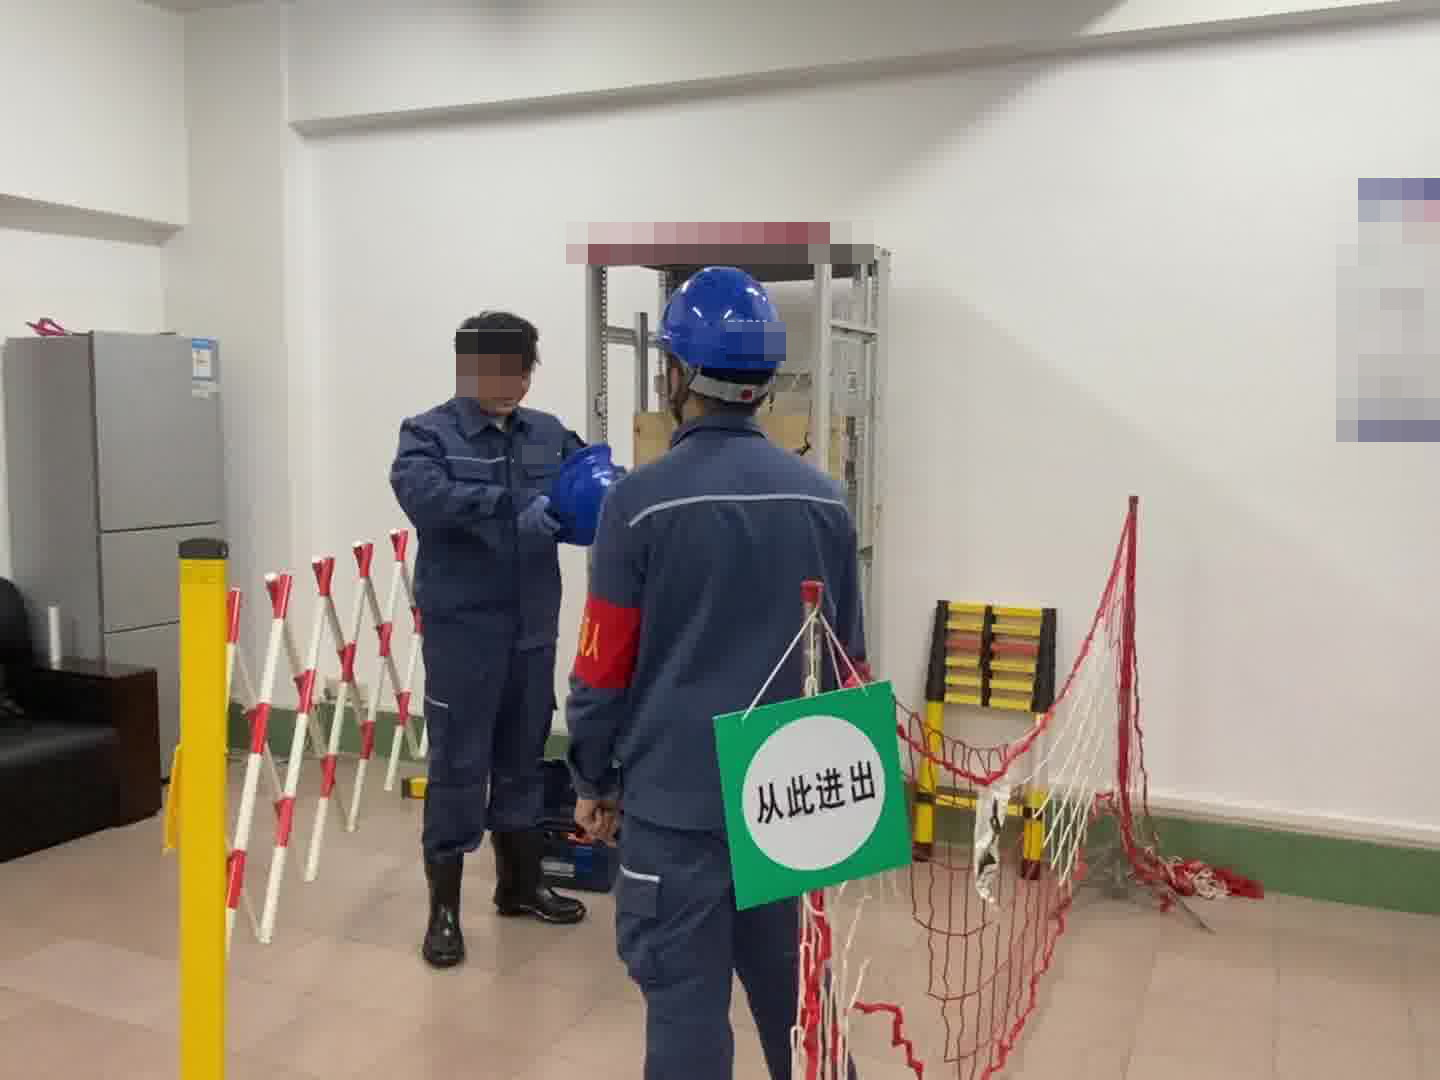badge: (574, 594, 643, 692)
downsuit: (614, 835, 848, 1080), (419, 643, 552, 856)
glove: (494, 480, 560, 536)
halt: (654, 264, 787, 413)
hand: (563, 789, 614, 848)
inear: (662, 357, 698, 400)
intosign: (705, 677, 925, 916)
noear: (456, 353, 487, 393)
person: (561, 259, 875, 1080), (388, 306, 598, 969)
shoe: (422, 829, 585, 972)
unhalt: (451, 311, 544, 409)
upsuit: (568, 421, 849, 821), (392, 399, 593, 633)
